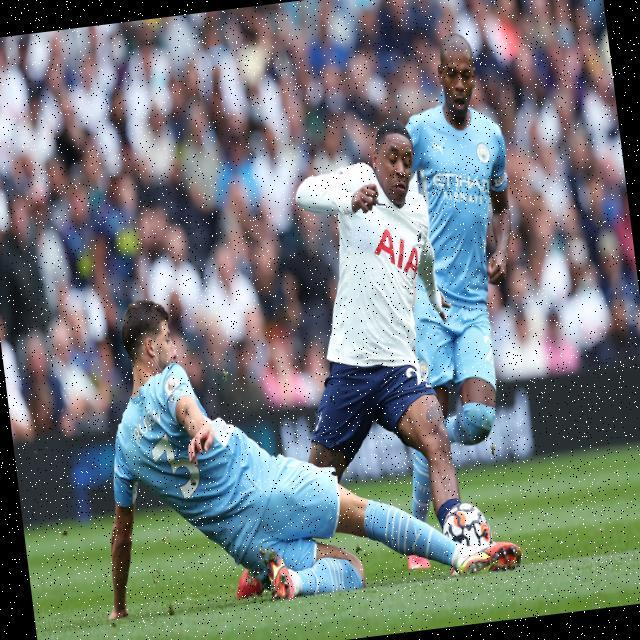Etihad Airways: (432, 164, 492, 210)
Nike: (374, 195, 389, 209)
Puma: (406, 526, 424, 553), (430, 137, 446, 158)
